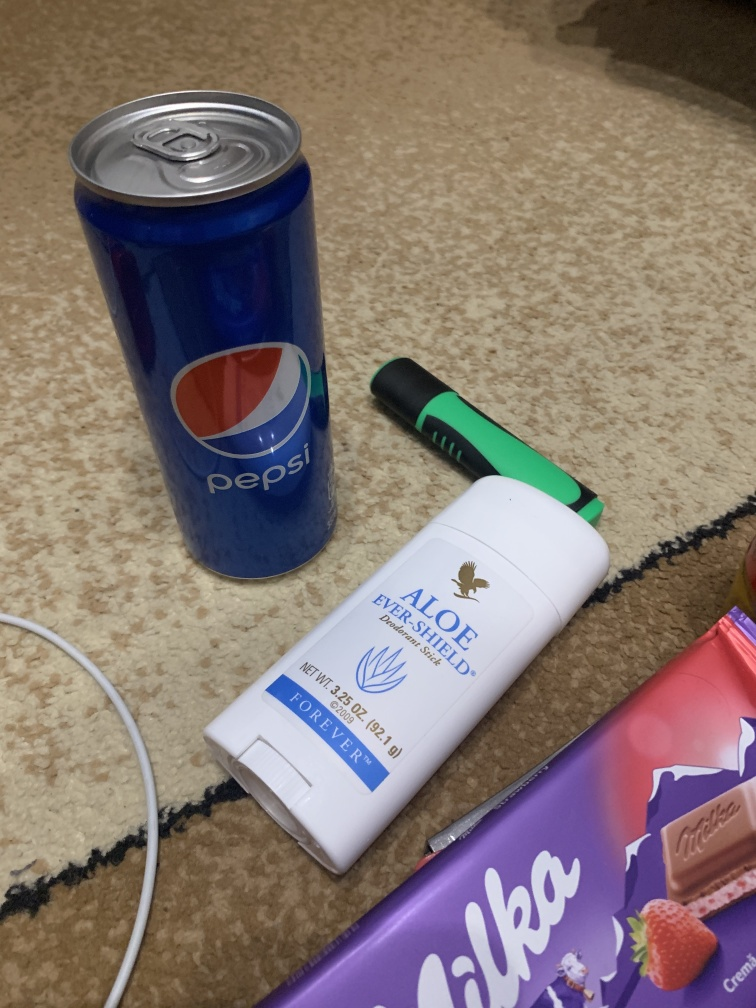pepsi: (59, 85, 359, 586)
